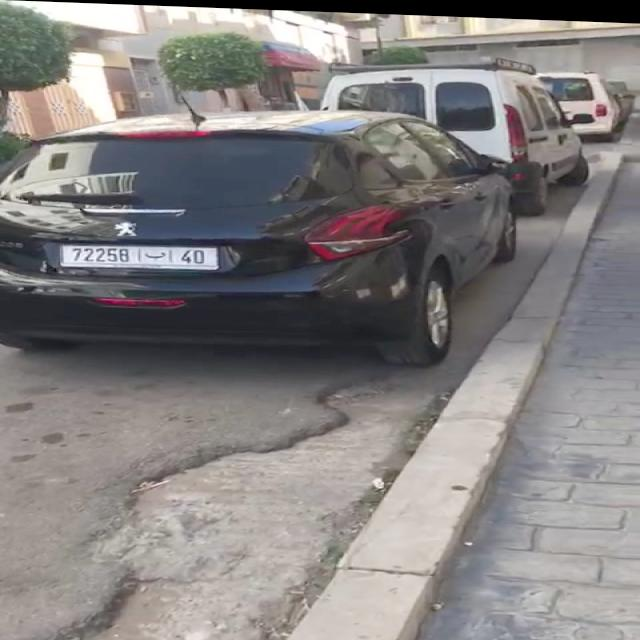License-Plate: (60, 244, 219, 269)
